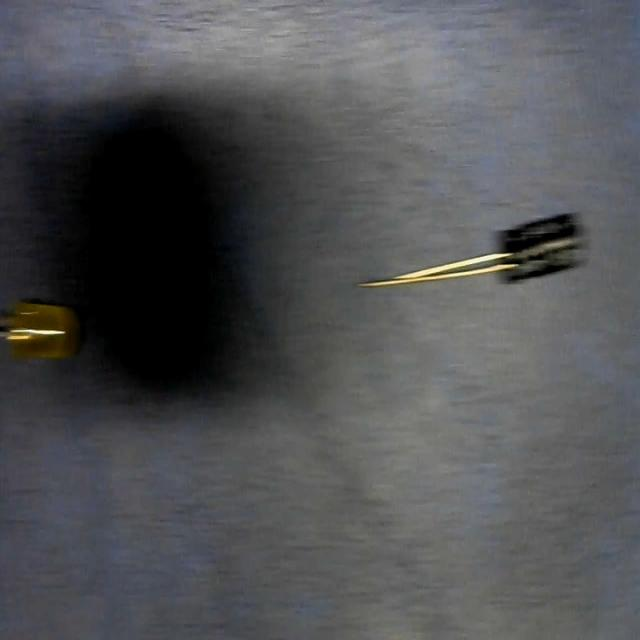capacitor: (360, 214, 583, 296)
